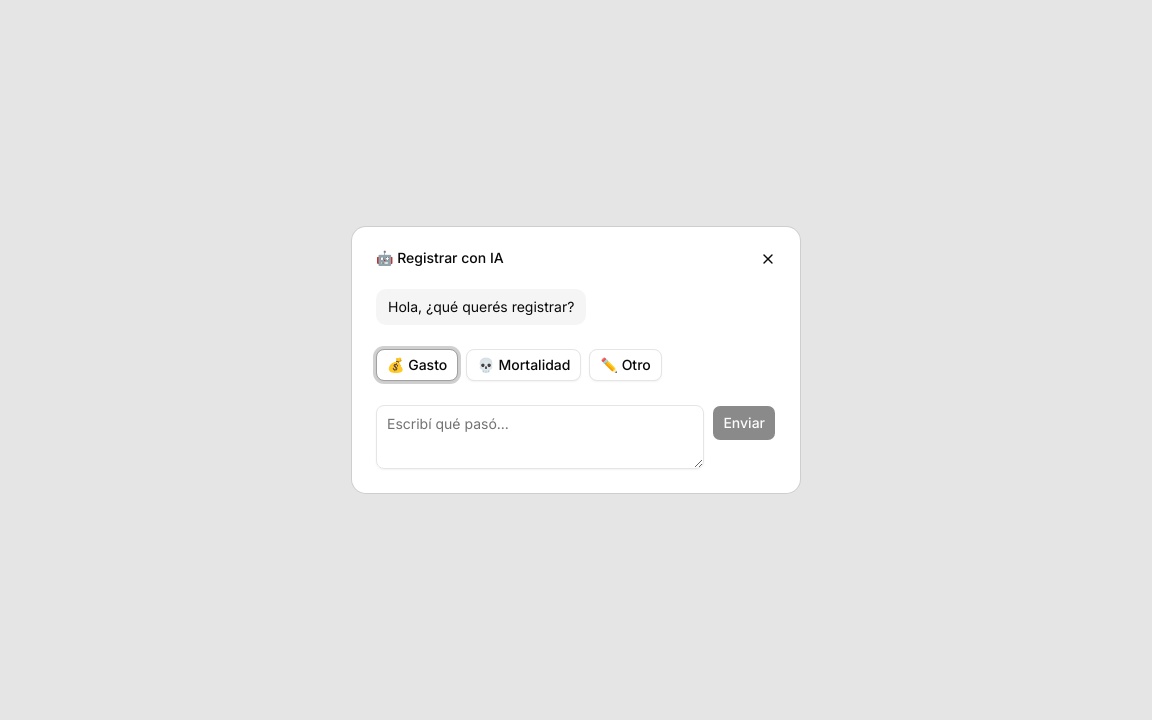
Test case: RegistrarConIAModal — C1 wire-up backend integration state transitions chat-like › query resolves createExpense → confirm-card bubble rendered con Bs. amount + ALIMENTO + description + DD/MM/YYYY + lotName
The image size is (1152, 720).
Step 1. Type "200 bs alimento" into the text box → (540, 437), box [376,405,704,469]
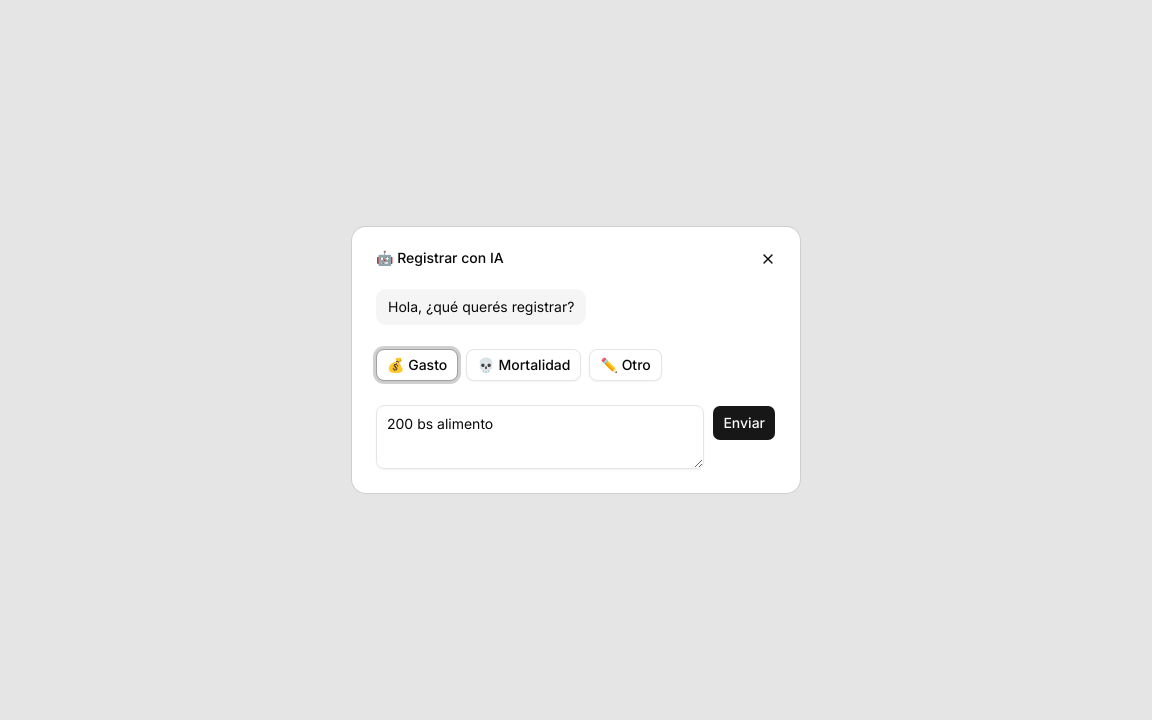
Step 2. Click the button "Enviar" → (744, 423), box [712,405,776,441]
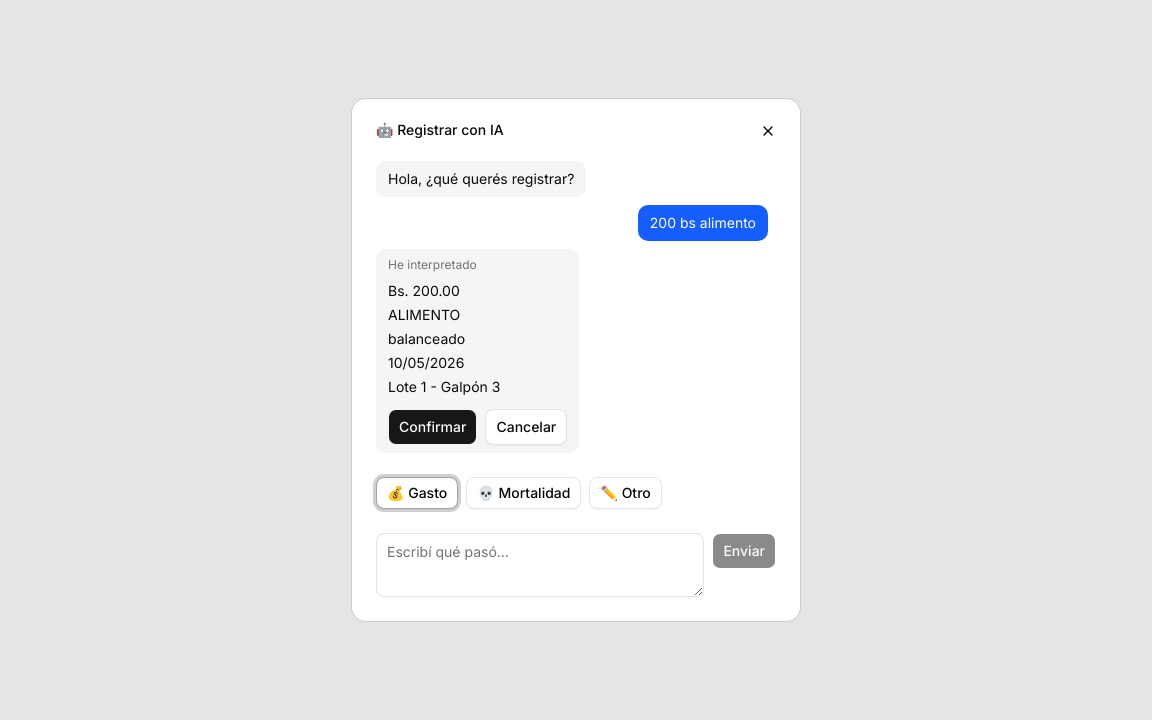
Check: the text "Bs. 200.00" is shown, box [388,282,460,299]
Check: the text "ALIMENTO" is shown, box [388,306,460,323]
Check: the text "balanceado" is shown, box [388,330,465,347]
